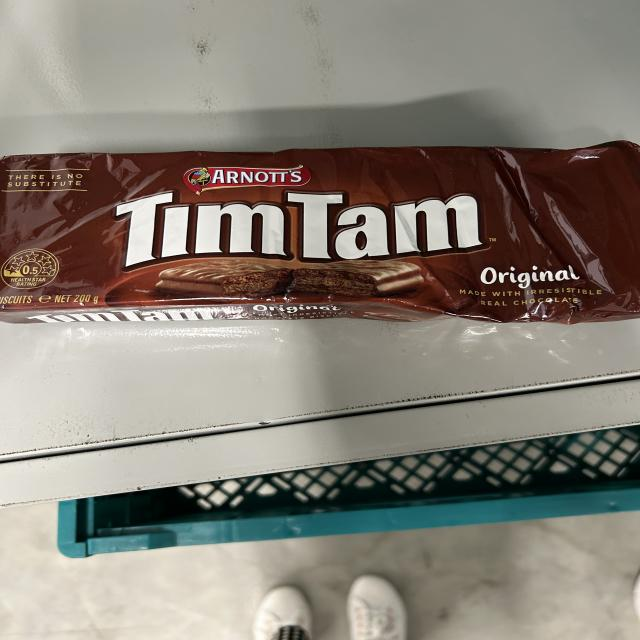object_name: (5, 155, 635, 322)
